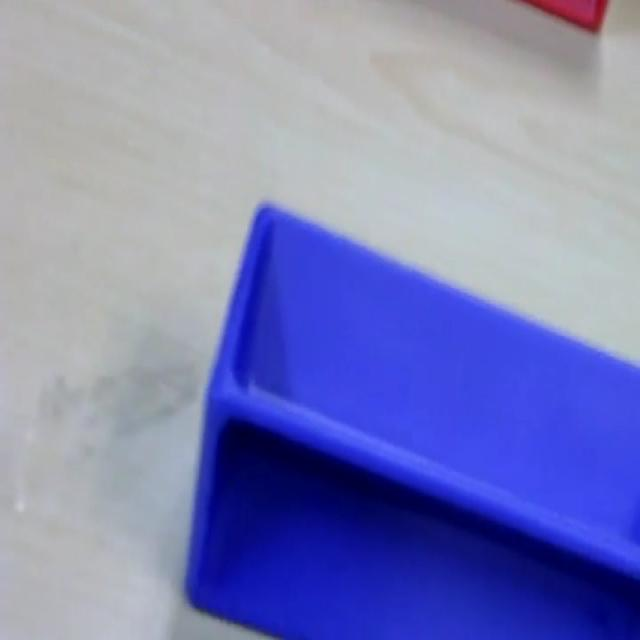blue_block: (183, 197, 639, 636)
